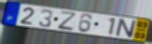1: (108, 18, 117, 36)
2: (20, 7, 36, 25)
3: (39, 8, 54, 28)
6: (77, 13, 93, 34)
N: (115, 17, 138, 39)
Z: (57, 10, 77, 31)
